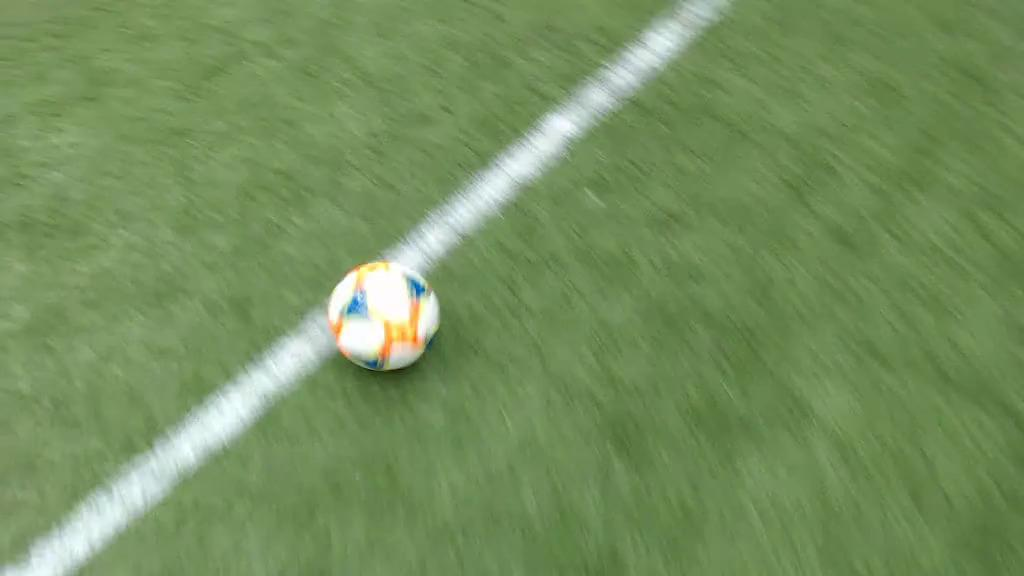ball: (329, 262, 438, 372)
